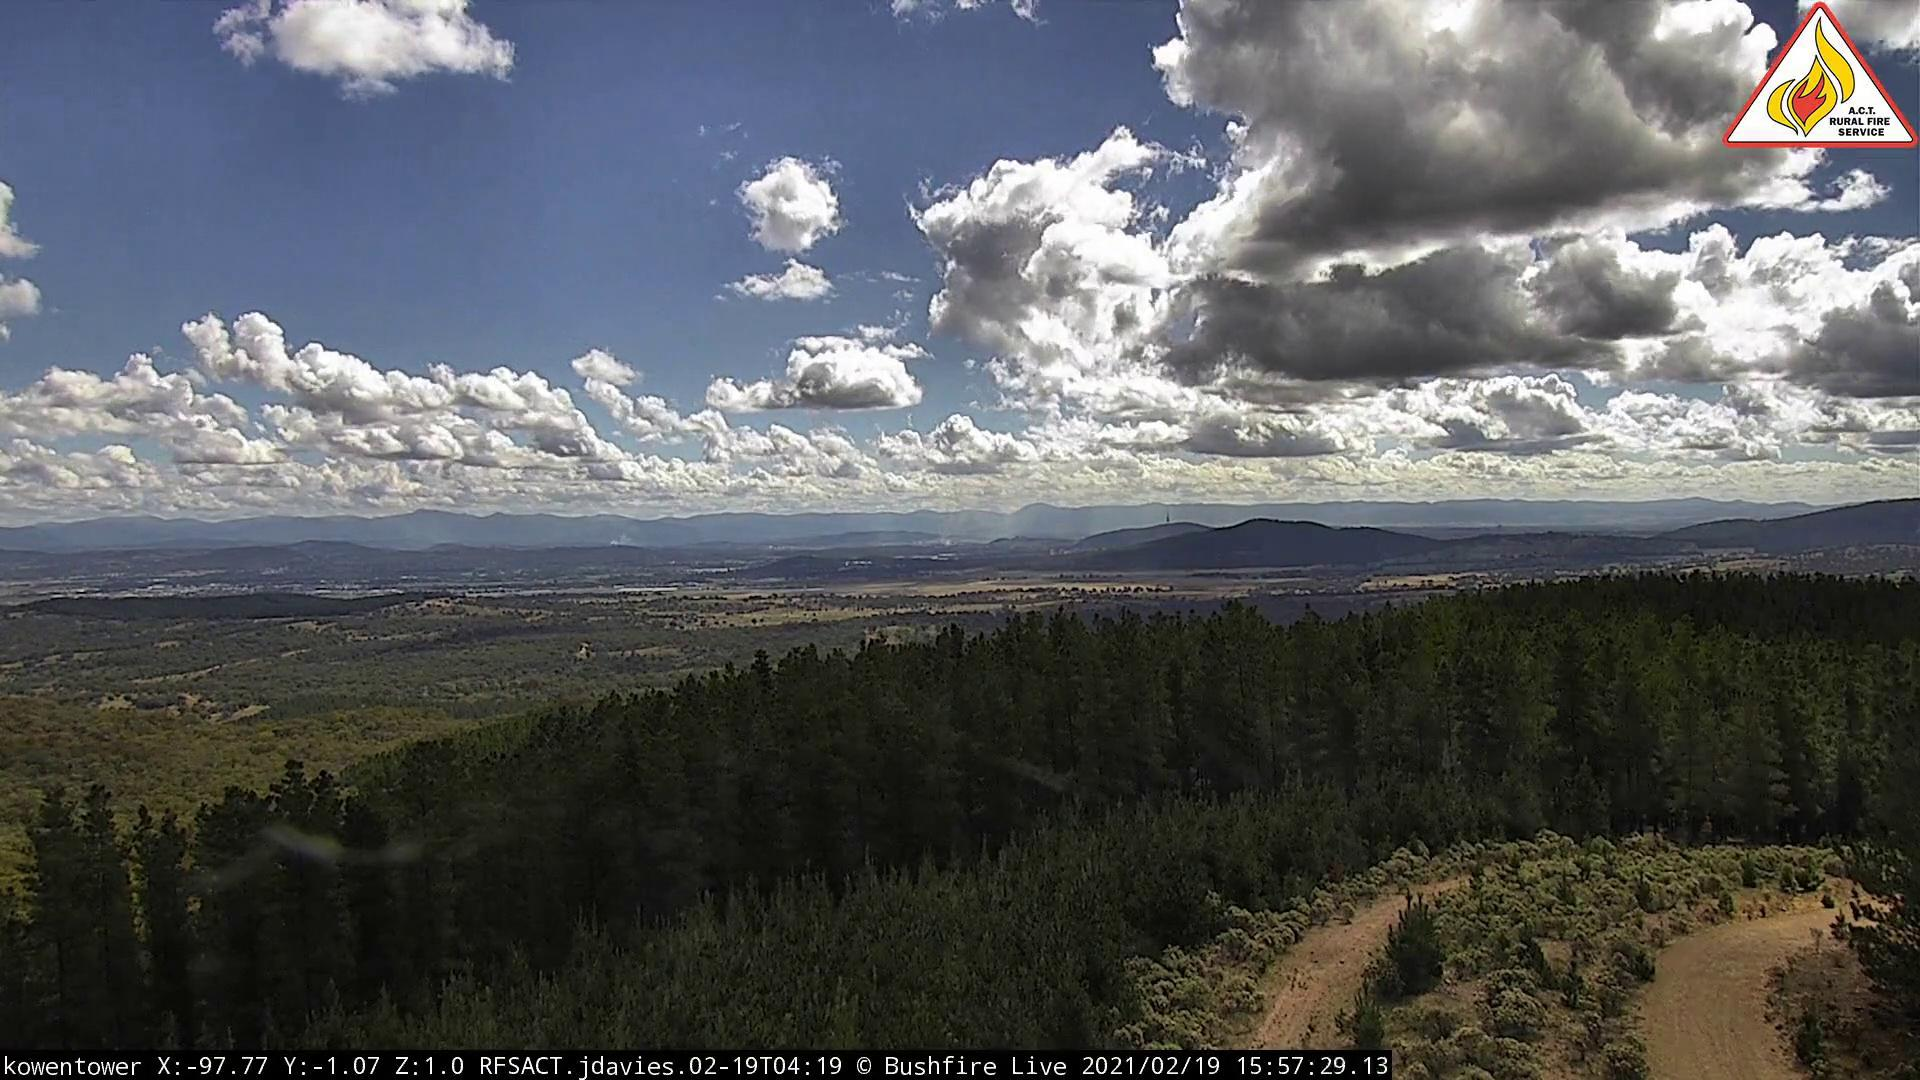instance_salient_object: (919, 512, 1029, 551), (611, 531, 644, 555)
